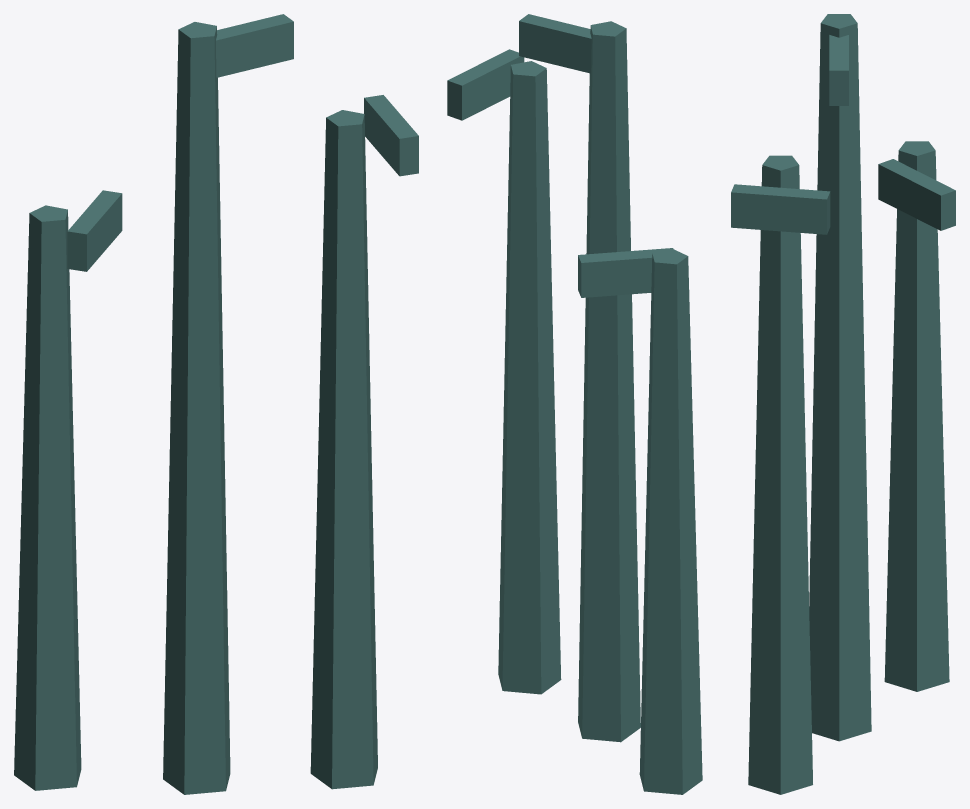
File: hs_kelp.glb
3 renders of one model, left to right at view 1: azimuth 30°, elevation 25°; view 2: azimuth 150°, elevation 25°; view 3: azimuth 270°, elevation 25°, orthographic. The views are drawn at different scales.
Parts seen in each view (by area): view 1: hs_kelp; view 2: hs_kelp; view 3: hs_kelp.
Boxes of the visible parts, x1,y1,x2,y2 form: hs_kelp: [14, 14, 418, 794]; hs_kelp: [447, 14, 702, 794]; hs_kelp: [731, 14, 955, 794].
Size of the model in its own units: 0.3468 by 0.8 by 0.2308.
